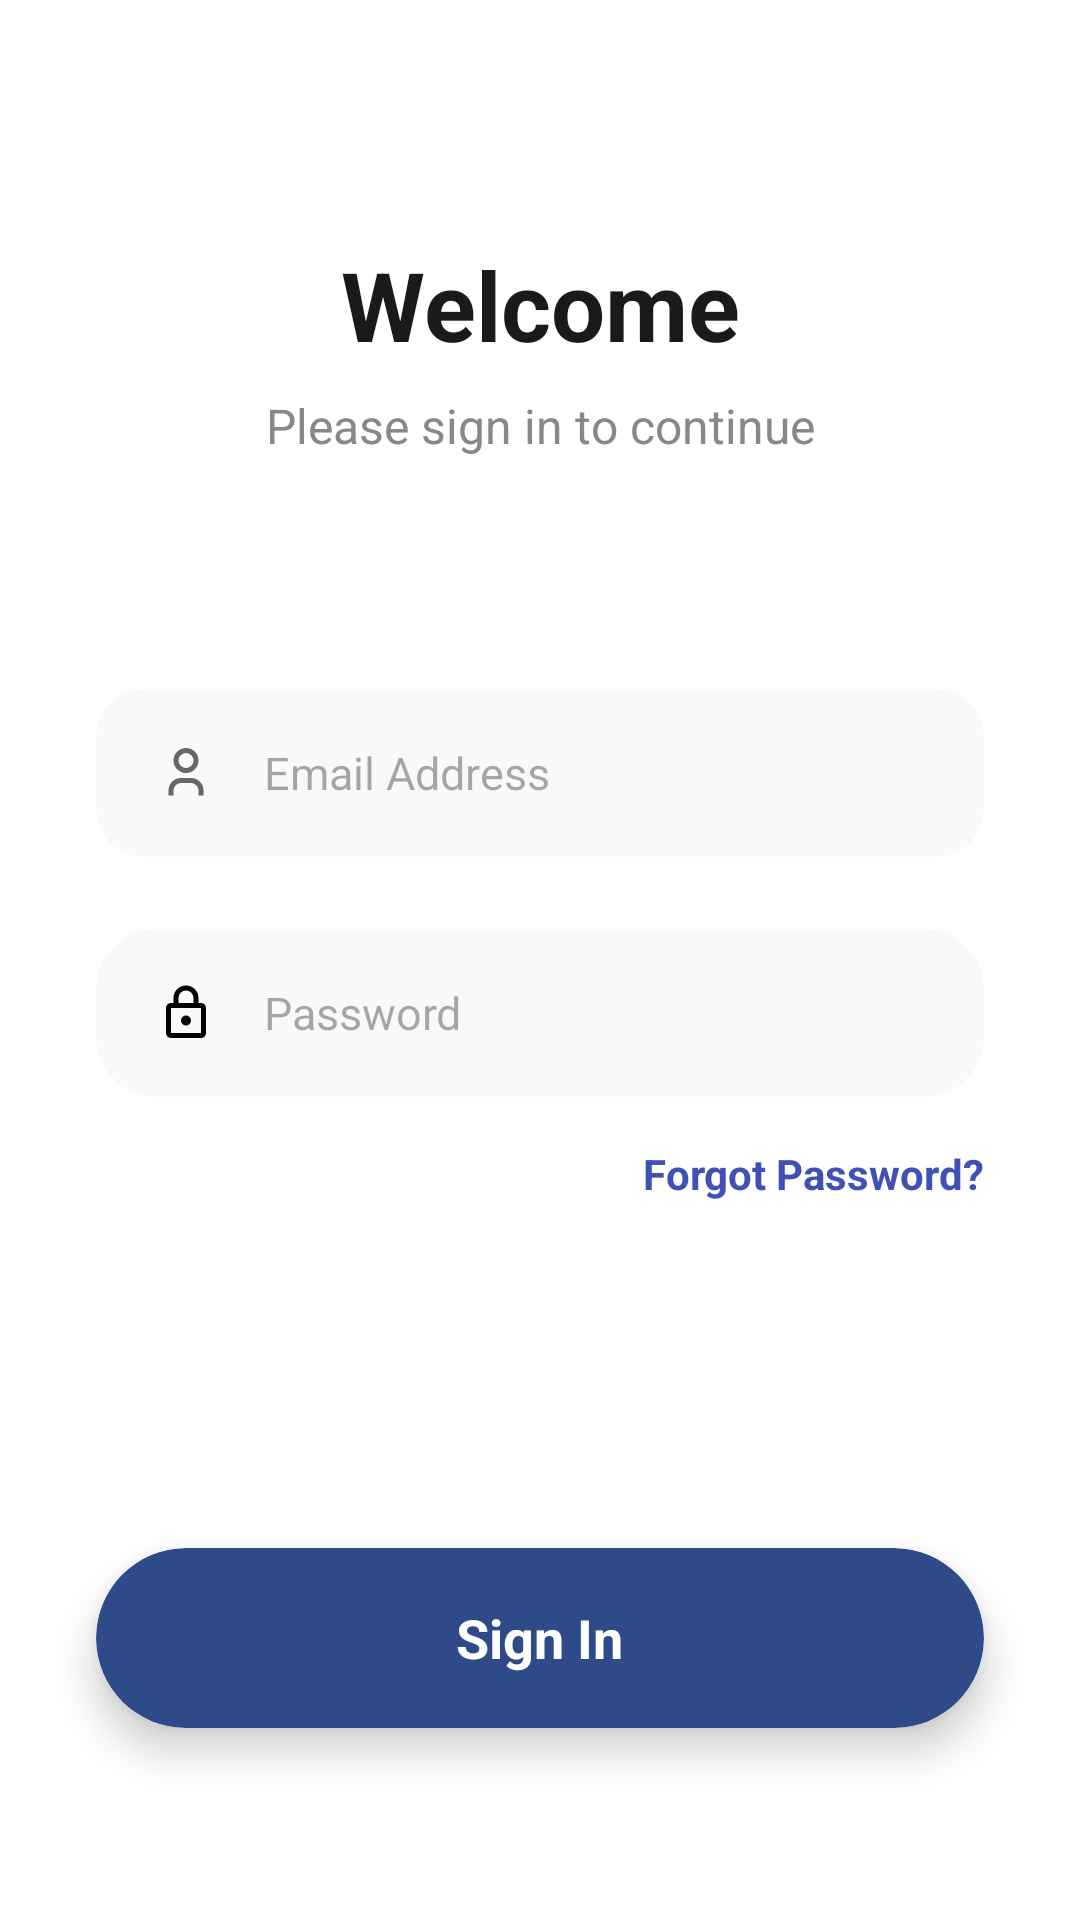

Point at icon controls on the screen. Image size 1080×1920, points as [x,y].
lock gg: [186,1011]
user gg: [186,772]
